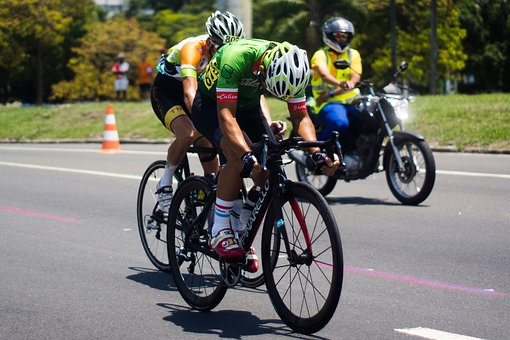bikerider: (167, 39, 348, 319)
